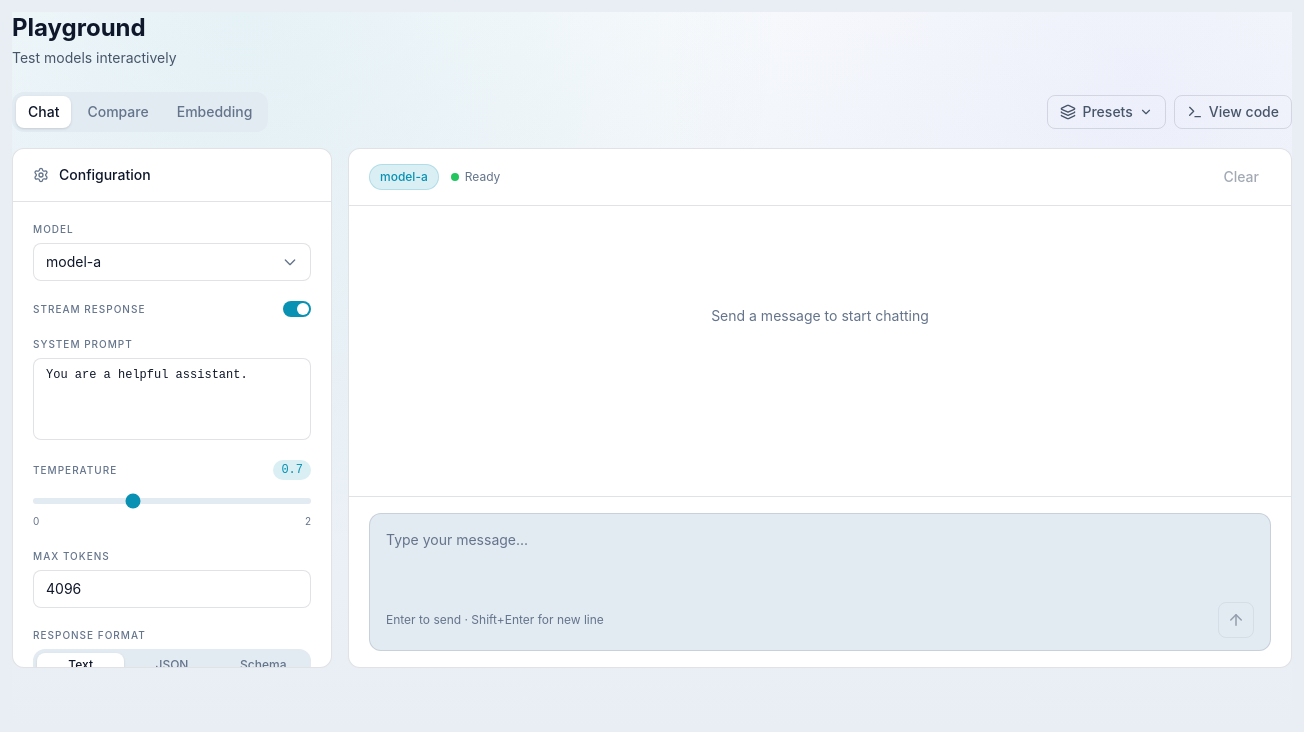
Test: PlaygroundPage › switches to compare mode with two columns and shared settings
Expected: the 2nd text "model-a" is shown, [46,252,101,272]
Step 1. Click the button "Compare" → (118, 112), box [75,96,161,128]
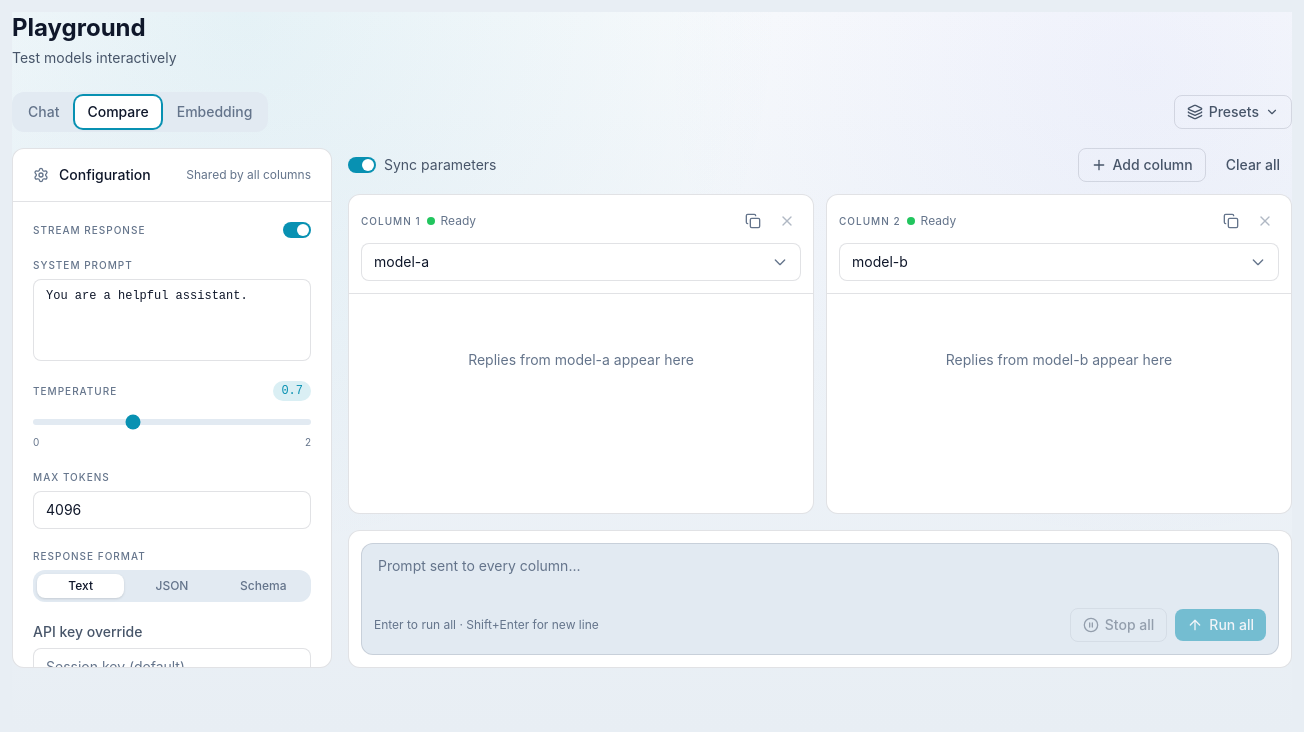
Result: the number of elements with test id "compare-column" is 2 at [348,194,814,514]; [826,194,1292,514]
Result: the element named "Column 1: model-a" is shown at [348,194,814,514]
Result: the element named "Column 2: model-b" is shown at [826,194,1292,514]
Step 2. Click the switch named "Sync parameters" → (362, 165), box [348,157,376,173]
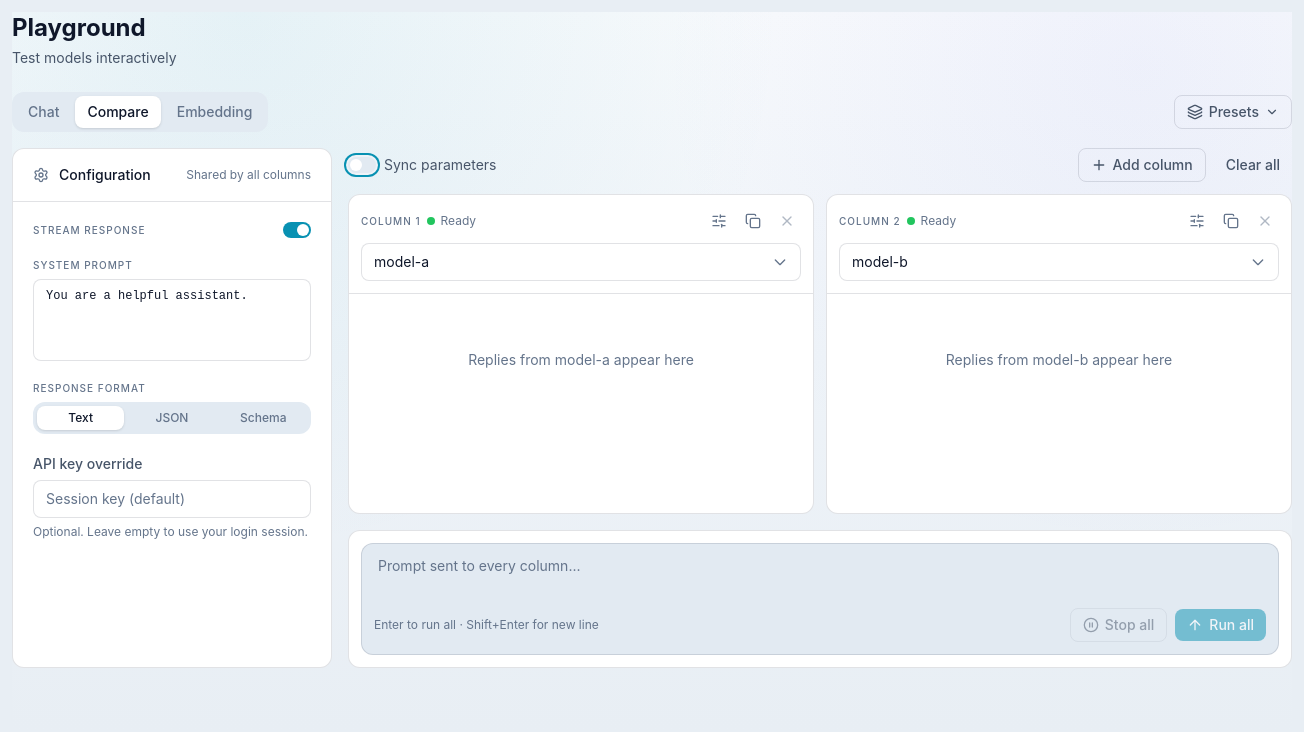
Result: the label labelled "Temperature" is gone
Result: the button named "Show Column 1 parameters" is shown at [705,207,733,235]
